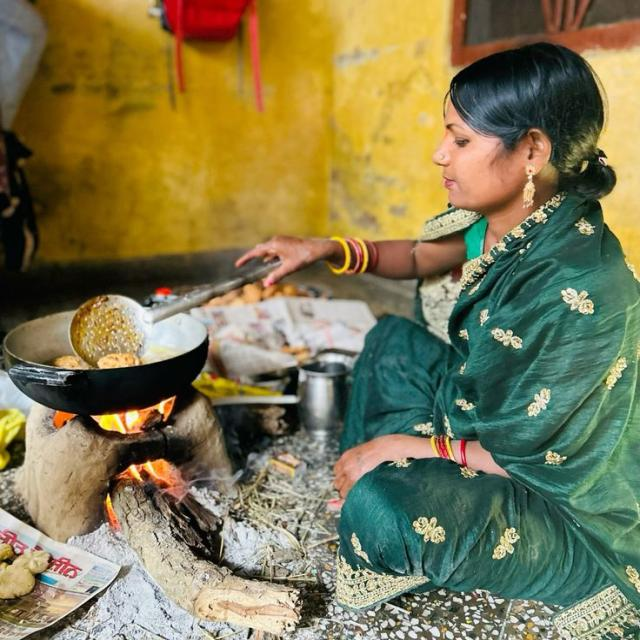fire: (100, 394, 176, 433), (116, 458, 172, 482)
